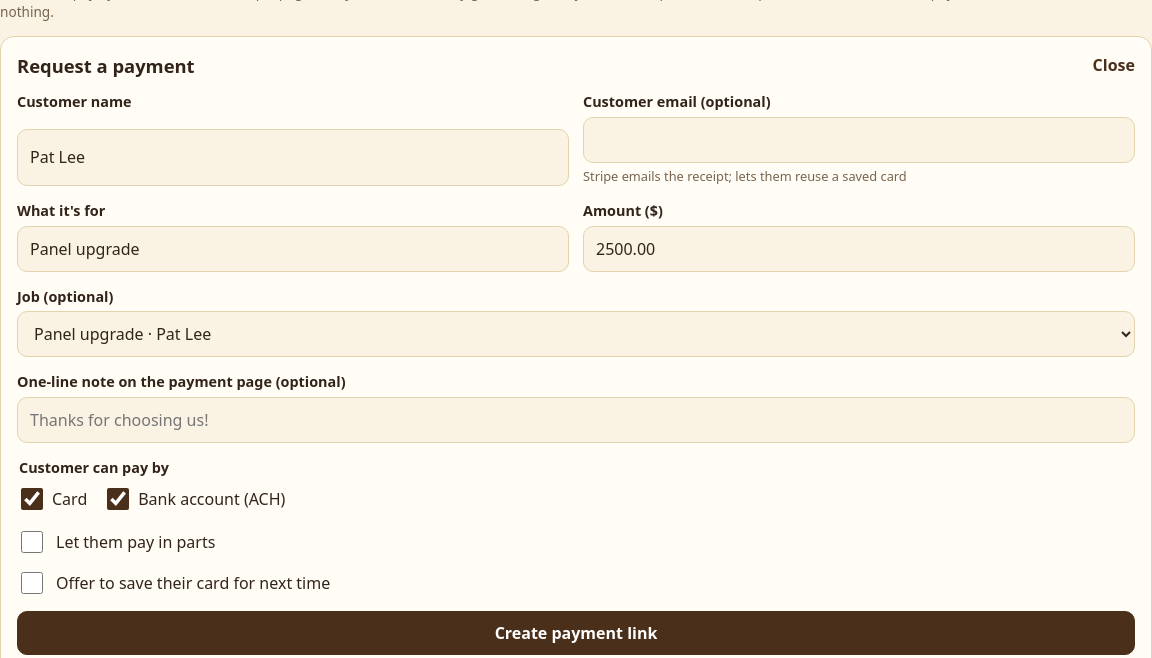
Test: Payments › creates a request from a job with dollars converted to cents
expect the field showing "2500.00" is shown: met, box [583,226,1135,272]
expect the field showing "Pat Lee" is shown: met, box [17,129,569,186]
Click the checkbox labelled "Let them pay in parts": (32, 542) [21,531,43,553]
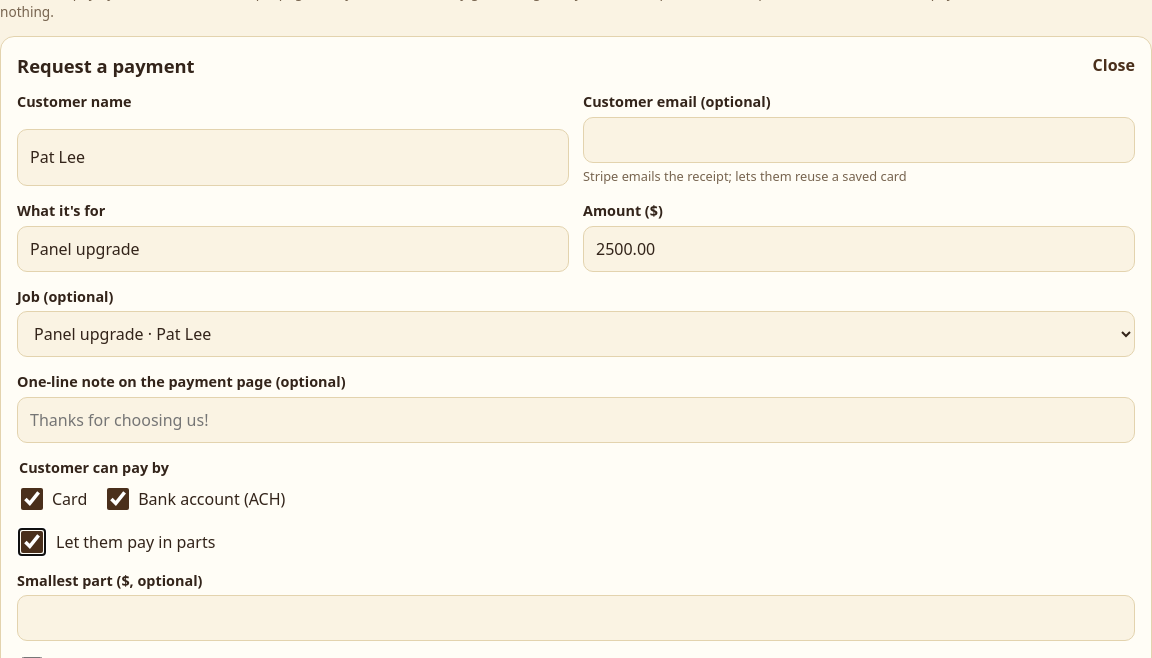
In the field labelled "Smallest part ($, optional)": (576, 618) [17,595,1135,641], type "500"
(page scrolled)
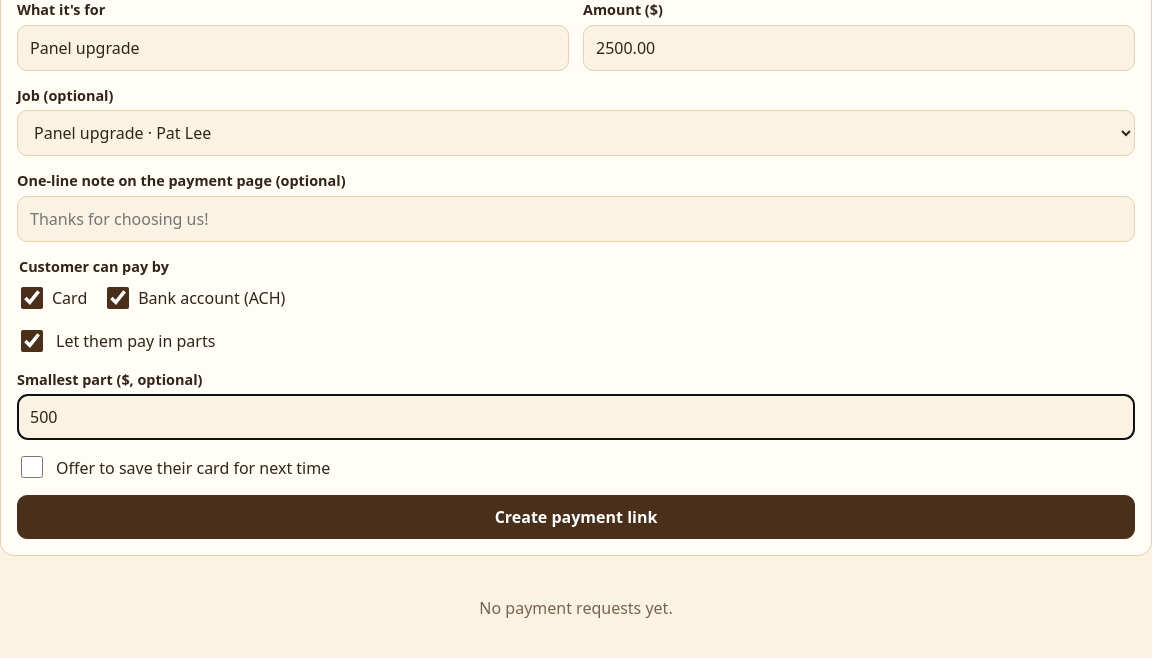
Click the button "Create payment link": (576, 517) [17,495,1135,539]
(page scrolled)
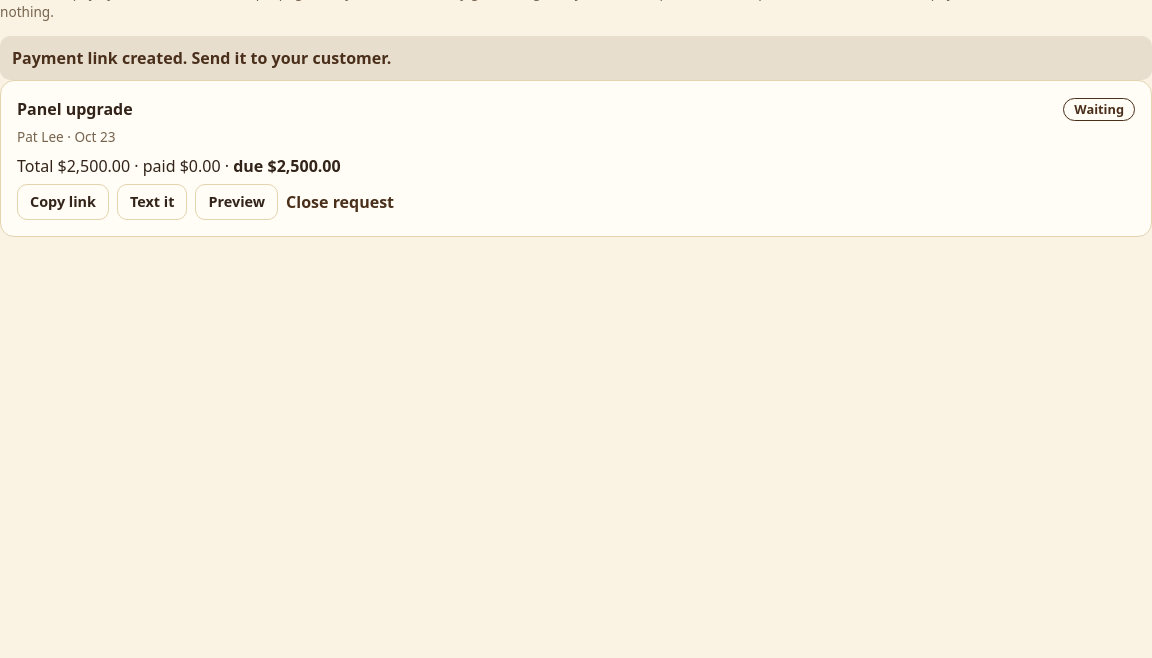
expect the text "Payment link created. Send it to your customer." is shown: met, box [0,36,1151,80]
expect the link "Text it" is shown: met, box [117,184,188,220]
